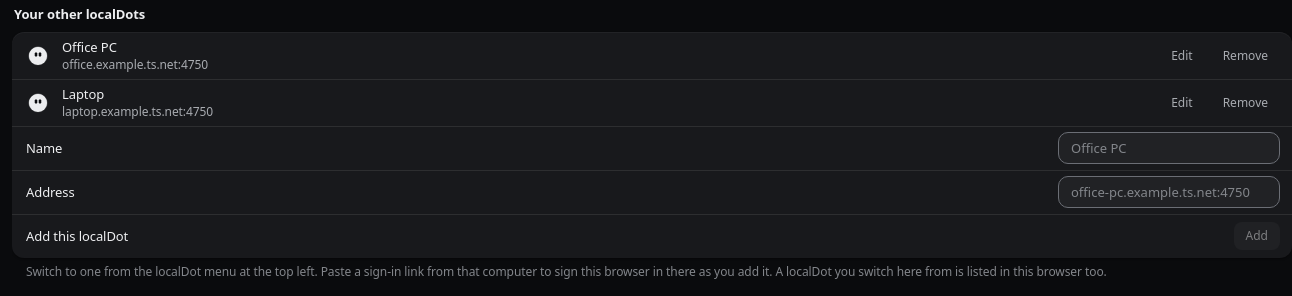
Test case: leaves the edited entry out of its own duplicate check, but not the others
Click the button with aria-label "Edit Office PC" at (1182, 56), box [1159, 42, 1205, 70]
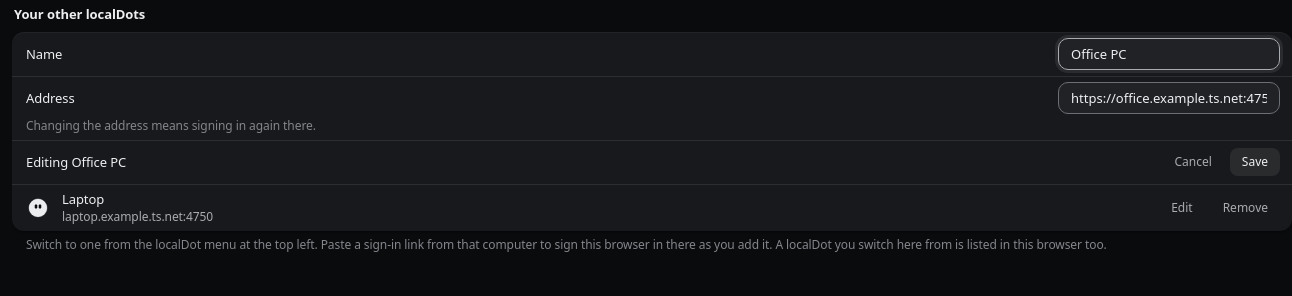
Click the button "Save" at (1255, 162), box [1230, 148, 1280, 176]
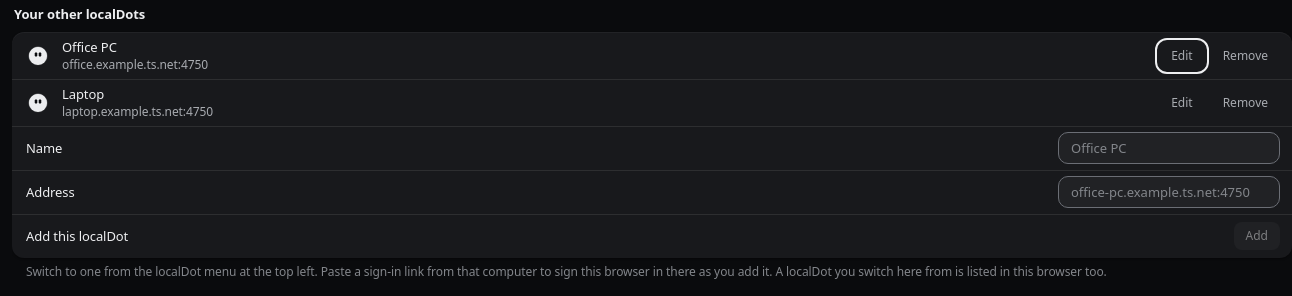
Click the button with aria-label "Edit Office PC" at (1182, 56), box [1159, 42, 1205, 70]
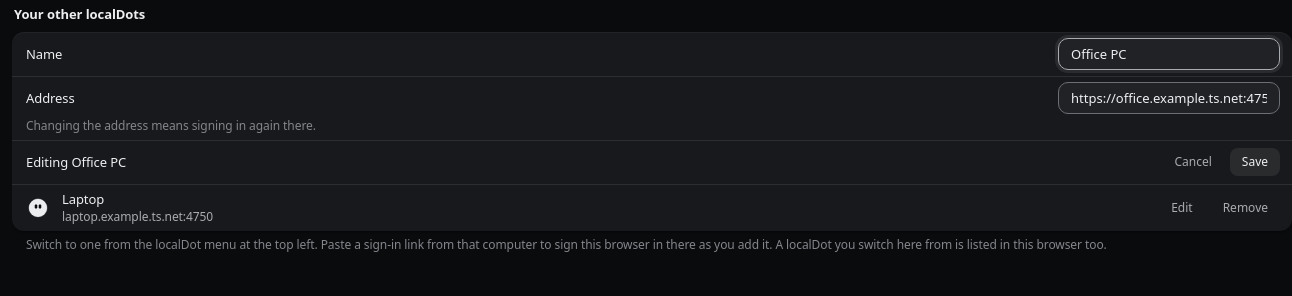
Replace the text in the field labelled "Address" with "https://laptop.example.ts.net:4750" at (1169, 98), box [1071, 83, 1267, 113]
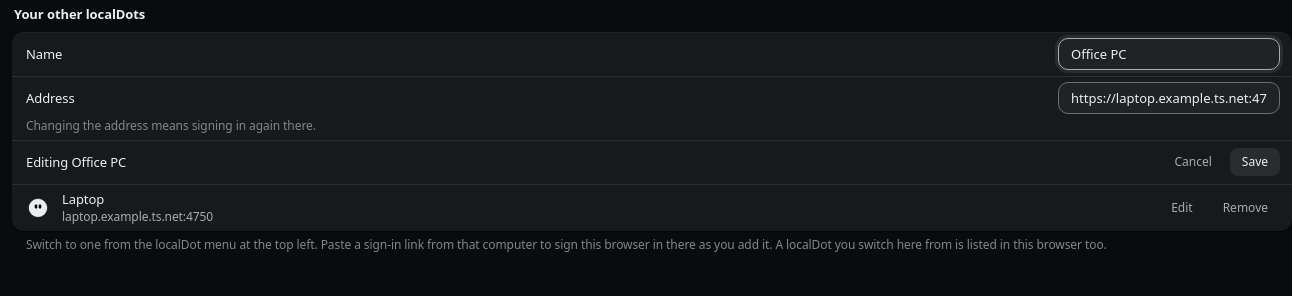
Press Enter in the field labelled "Address", box [1071, 83, 1267, 113]
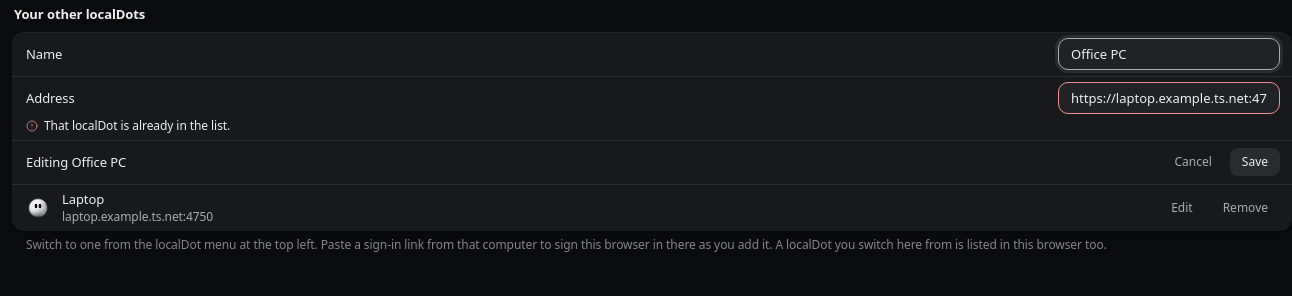
Result: the text "That localDot is already in the list." is shown at [44, 118, 230, 134]
